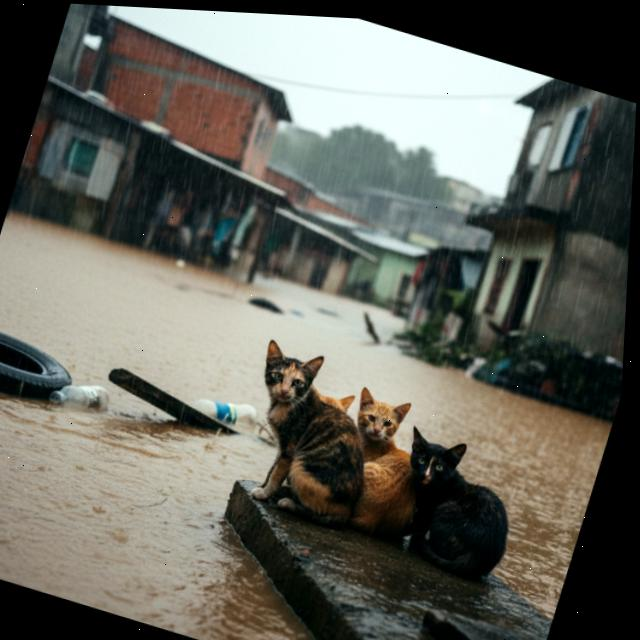cat: (213, 326, 409, 546), (368, 419, 543, 604), (315, 374, 461, 556), (291, 366, 365, 430)
